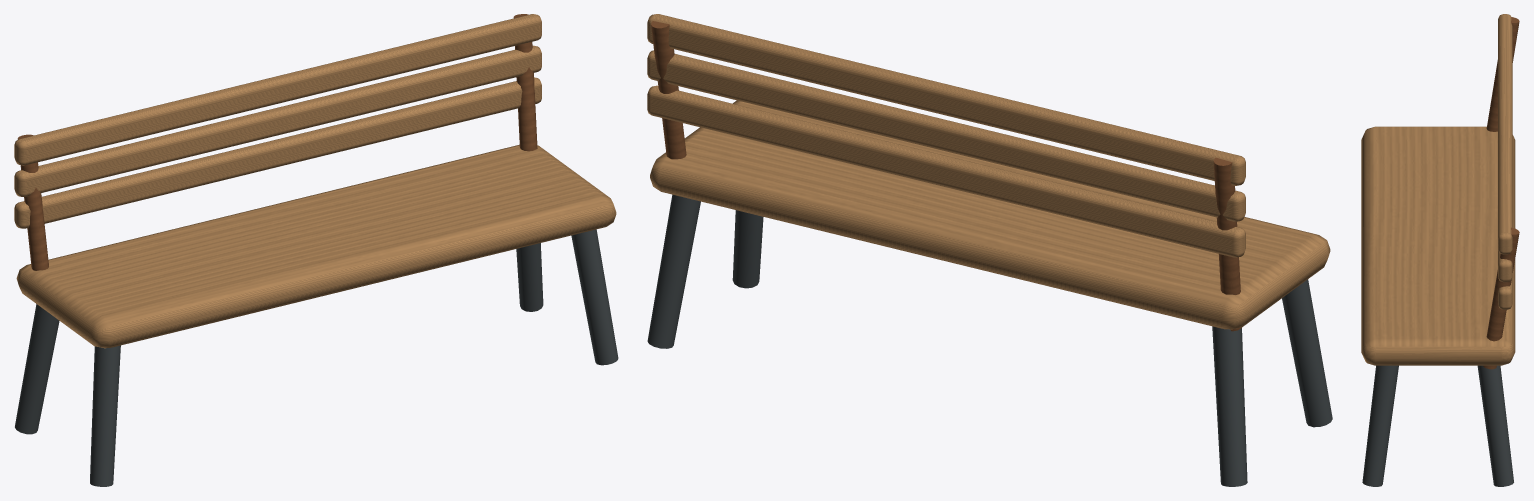
The model's file is bench-baf6d06330fc.glb.
The picture shows the model from 3 angles, left to right: view 1: azimuth 30°, elevation 25°; view 2: azimuth 150°, elevation 25°; view 3: azimuth 270°, elevation 25°; orthographic projection. The views are drawn at different scales.
Visible parts, largest first — view 1: surface_oak, surface_graphite, surface_walnut; view 2: surface_oak, surface_graphite, surface_walnut; view 3: surface_oak, surface_graphite, surface_walnut.
Part boxes in pixels (x1=…): surface_oak: x1=14, y1=14, x2=616, y2=348; surface_graphite: x1=15, y1=229, x2=618, y2=486; surface_walnut: x1=17, y1=14, x2=537, y2=304; surface_oak: x1=647, y1=14, x2=1330, y2=329; surface_graphite: x1=647, y1=195, x2=1332, y2=486; surface_walnut: x1=651, y1=21, x2=1241, y2=331; surface_oak: x1=1361, y1=14, x2=1515, y2=365; surface_graphite: x1=1362, y1=365, x2=1513, y2=486; surface_walnut: x1=1483, y1=17, x2=1519, y2=369.
Bounding box in the file's own units: 1.65 × 0.8747 × 0.4937.
3 materials, 2 textured.
